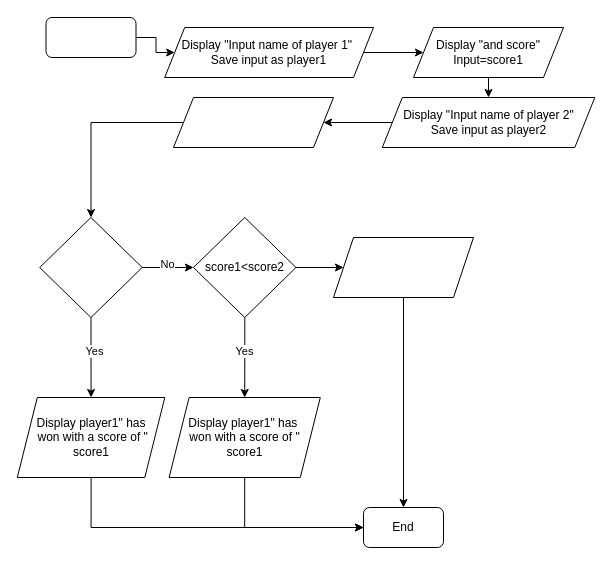
Some shapes in this 613 by 565 pixel diagram are drawn without their labels. Each missing label, with the box of its shape:
Display "and score" Input=score2: (172, 96, 334, 148)
Display "Its a draw!": (332, 236, 474, 298)
score1>score2: (39, 216, 142, 318)
Start: (45, 16, 136, 58)
